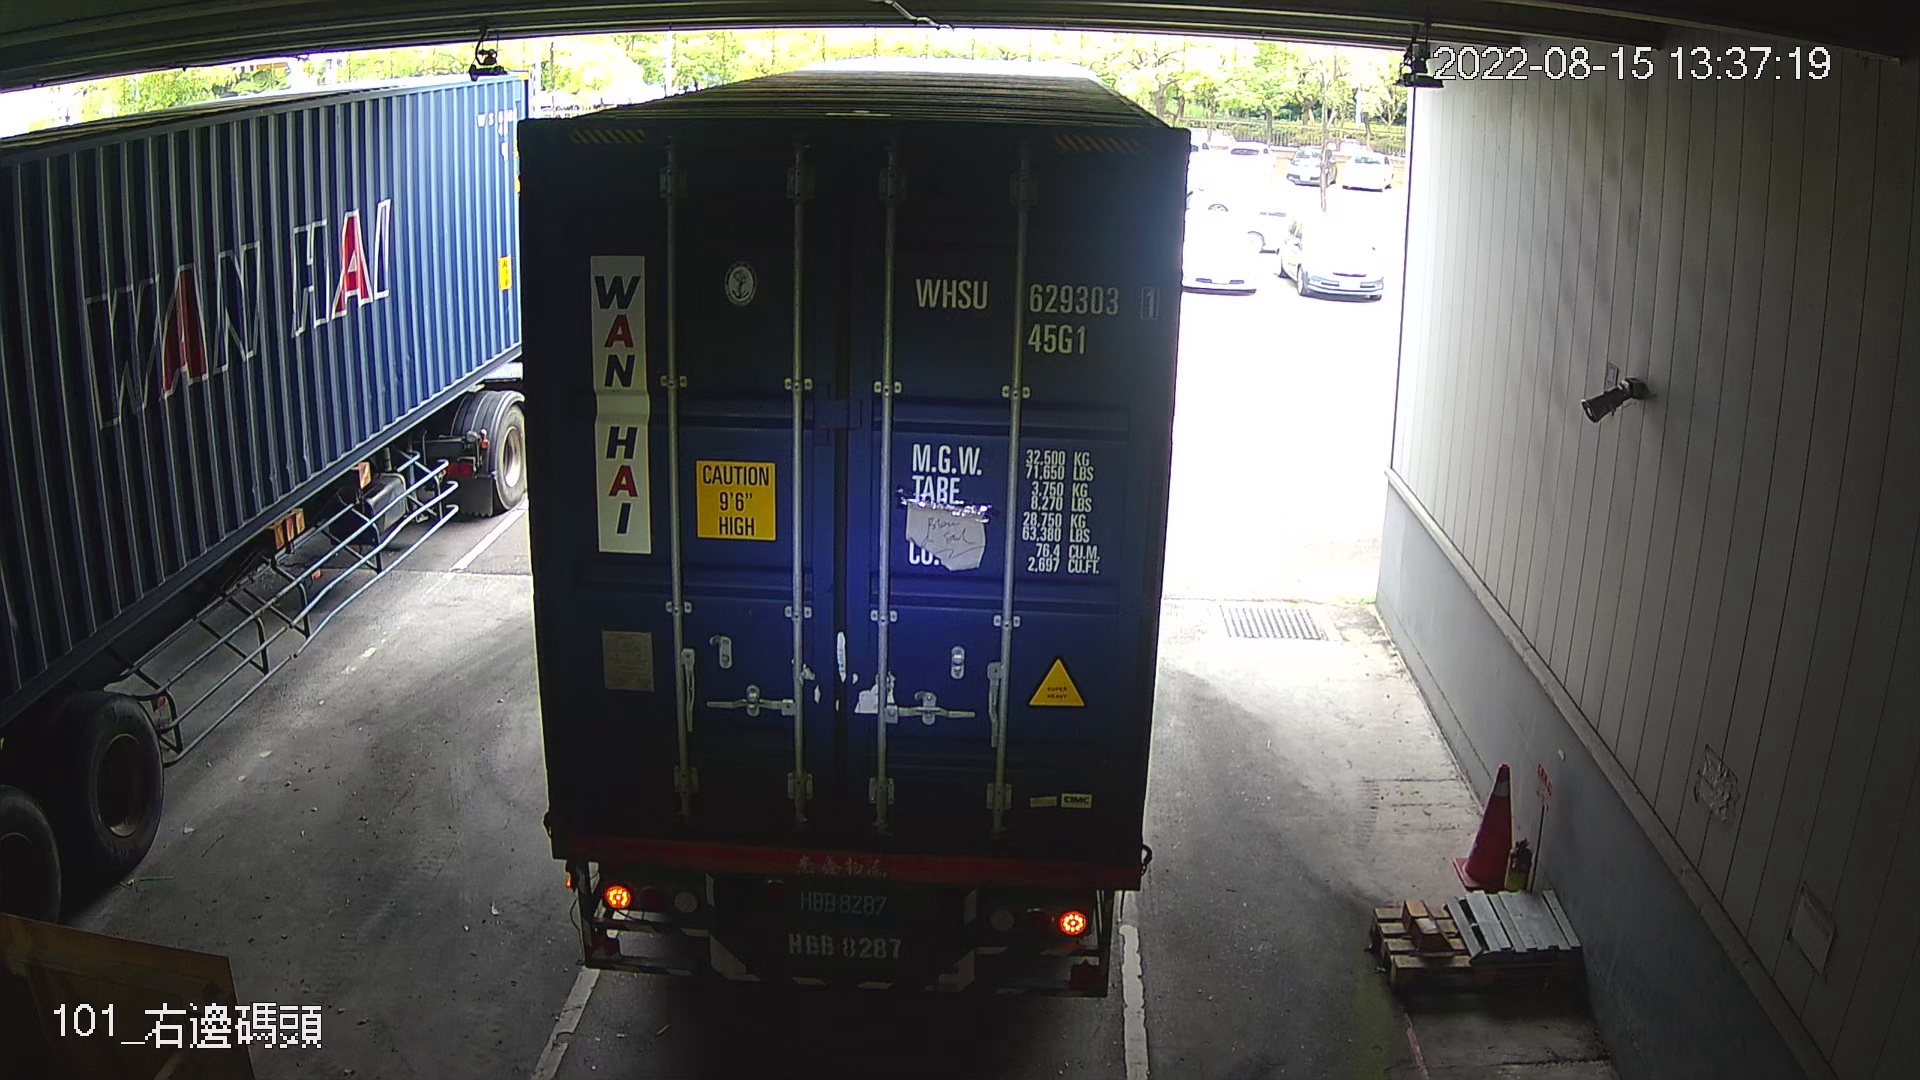container: (907, 261, 1168, 364)
